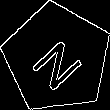N_NE: (26, 27, 89, 90)
